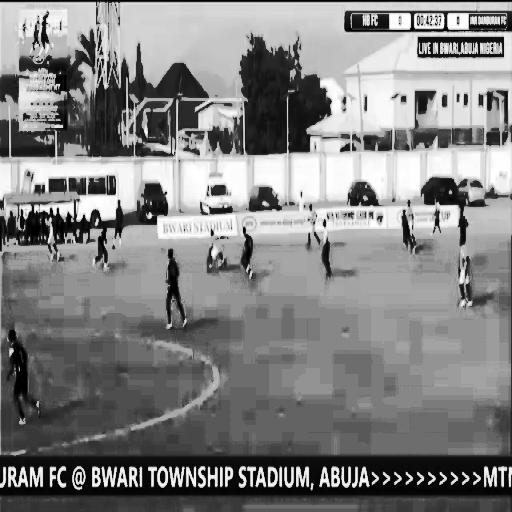ball: (216, 260, 224, 272)
team1: (452, 235, 473, 310), (204, 228, 230, 269), (42, 207, 60, 261), (302, 208, 320, 244), (434, 206, 442, 237)
team2: (6, 326, 42, 423), (160, 244, 193, 331), (240, 224, 255, 284), (112, 199, 126, 255), (97, 216, 110, 276), (396, 208, 410, 246), (458, 206, 471, 244)
